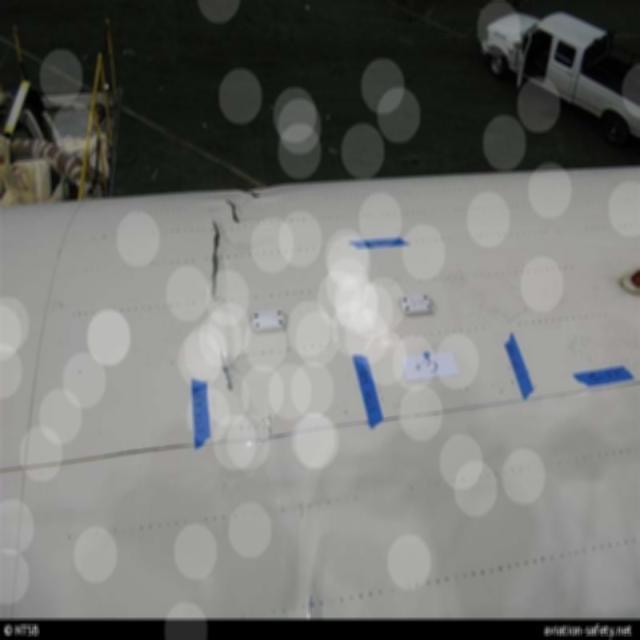crack: (208, 218, 221, 307), (220, 351, 237, 394), (225, 198, 240, 225)
